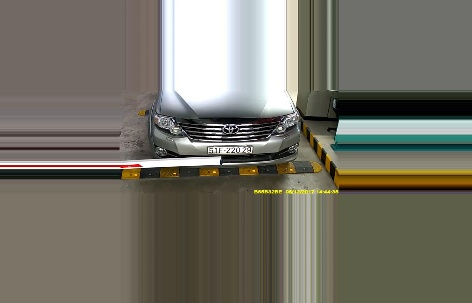plate: (203, 145, 253, 155)
